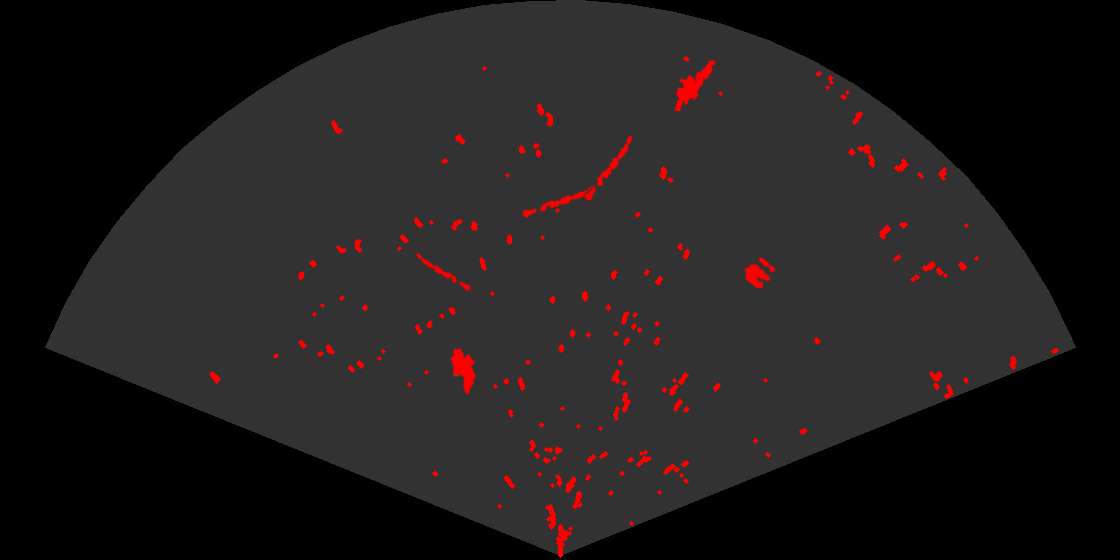AUV: (449, 346, 478, 397)
ball: (743, 256, 777, 291)
chain: (577, 134, 634, 211), (406, 248, 474, 294), (518, 184, 598, 220)
frogman: (673, 58, 717, 111)
